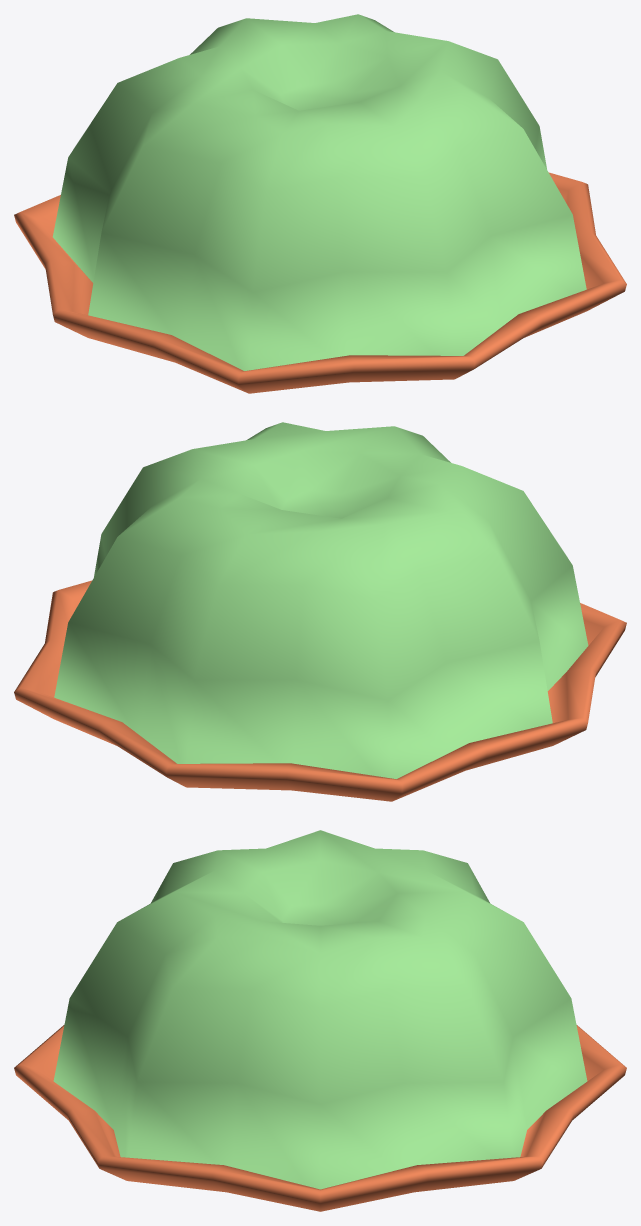
File: PuddingCactus.fbx
3 renders of one model, top to bottom at view 1: azimuth 30°, elevation 25°; view 2: azimuth 150°, elevation 25°; view 3: azimuth 270°, elevation 25°, orthographic.
Parts seen in each view (by area): view 1: PuddingCactus_Item_LOD0.001; view 2: PuddingCactus_Item_LOD0.001; view 3: PuddingCactus_Item_LOD0.001.
Part boxes in pixels (x1=…): PuddingCactus_Item_LOD0.001: x1=14, y1=14, x2=626, y2=393; PuddingCactus_Item_LOD0.001: x1=14, y1=422, x2=626, y2=801; PuddingCactus_Item_LOD0.001: x1=14, y1=830, x2=626, y2=1211.
Size of what is drawn, in the model's own units: 0.4781 by 0.2458 by 0.4781.
